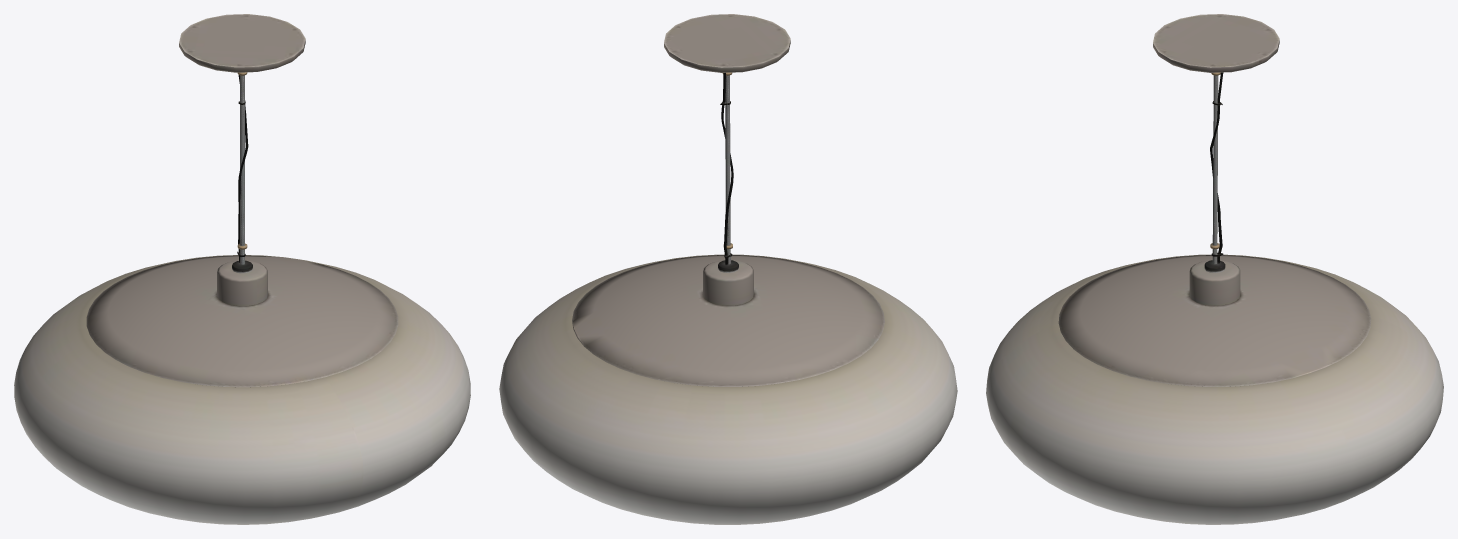
The model's file is ph-modern-ceiling-lamp-01.glb.
3 views of the same model, side by side, from view 1: azimuth 30°, elevation 25°; view 2: azimuth 150°, elevation 25°; view 3: azimuth 270°, elevation 25° (orthographic).
Visible parts, largest first — view 1: modern_ceiling_lamp_01; view 2: modern_ceiling_lamp_01; view 3: modern_ceiling_lamp_01.
Part boxes in pixels (<box>): modern_ceiling_lamp_01: <box>14,14,470,524</box>; modern_ceiling_lamp_01: <box>499,14,957,524</box>; modern_ceiling_lamp_01: <box>986,14,1443,524</box>.
Size of the model in its own units: 1 by 0.9996 by 1.
2 materials, 2 textured.
